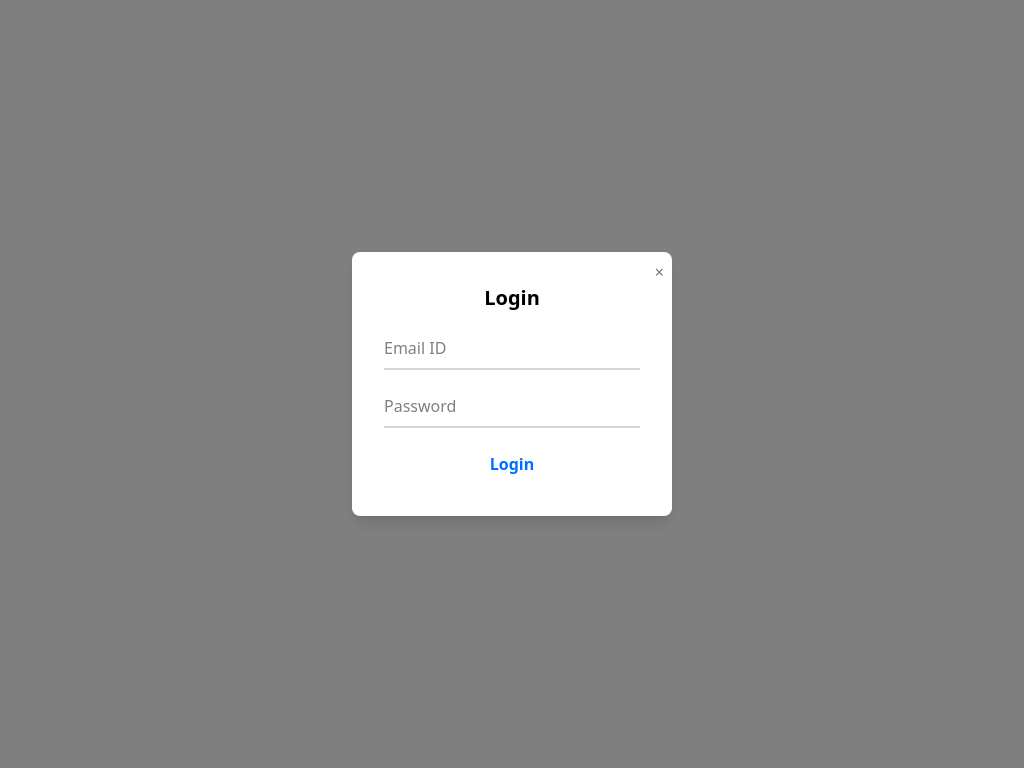
it: Login › shows error on failed login
Type "fail@example.com" into the field with placeholder "Email ID" at (512, 349), box [384, 328, 640, 370]
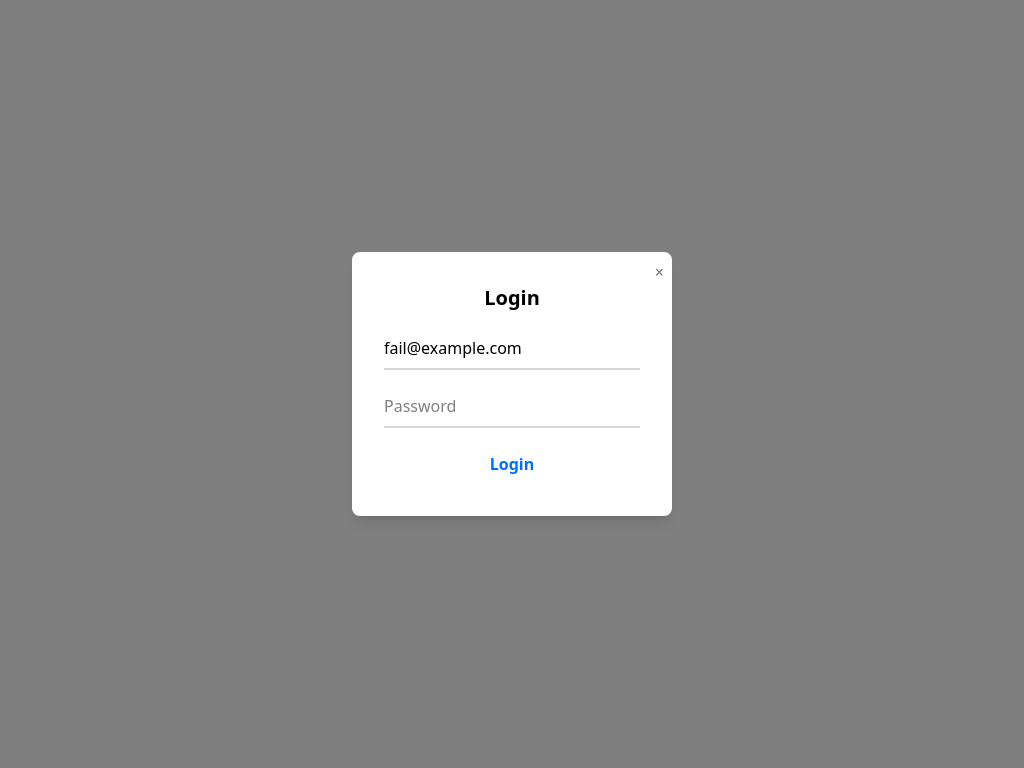
Type "wrong" into the password field with placeholder "Password" at (512, 407), box [384, 386, 640, 428]
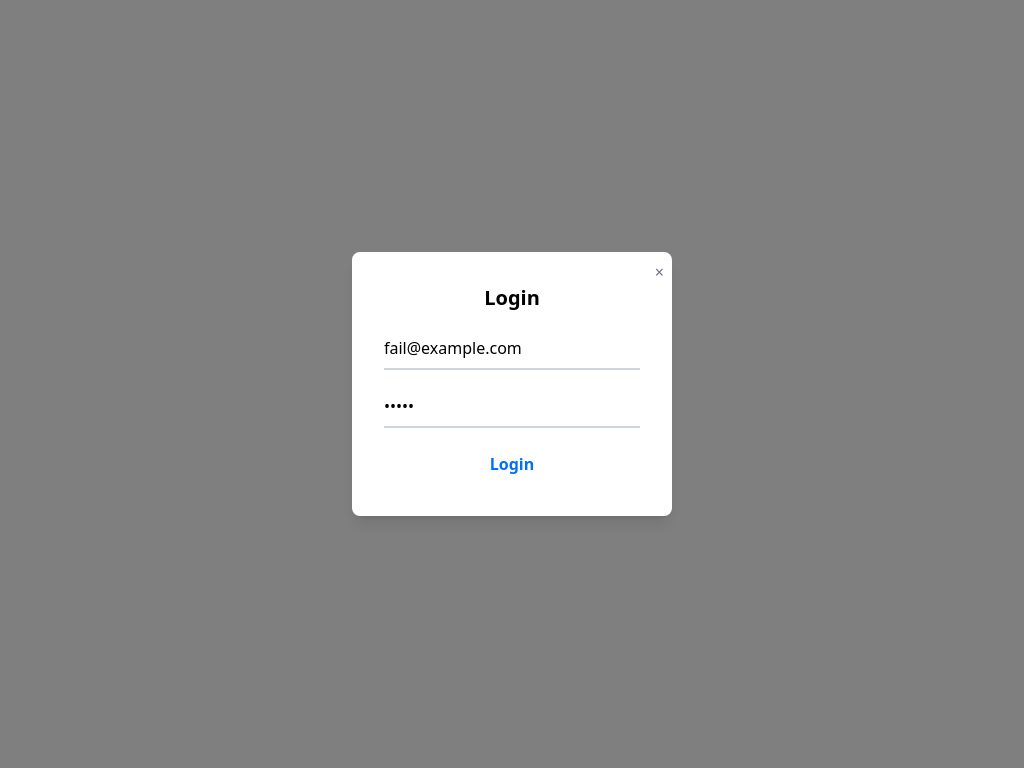
Click the button "Login" at (512, 464), box [384, 444, 640, 484]
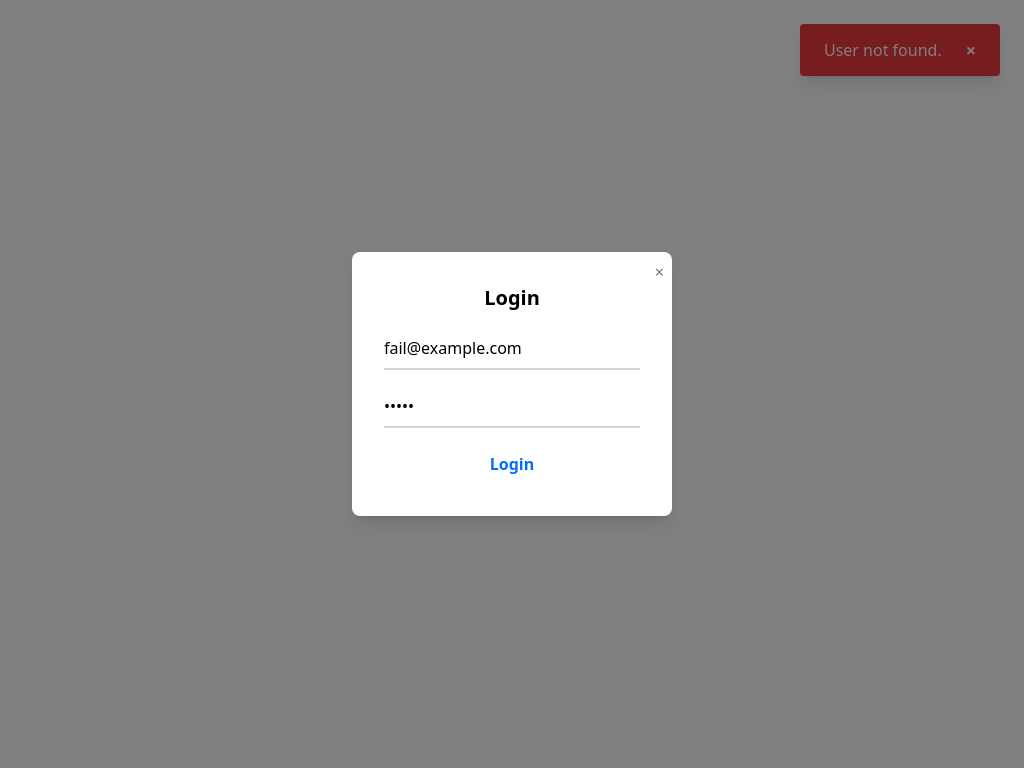
Check: the text "User not found." is shown, box [824, 38, 942, 62]
